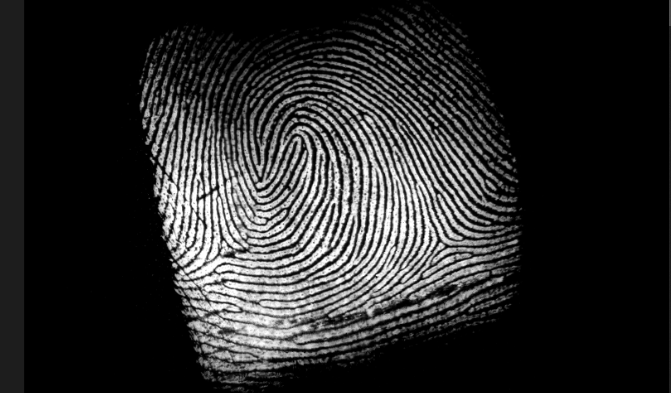nucelo: (284, 127, 310, 175)
verticilo: (206, 232, 244, 265), (422, 230, 458, 259)
